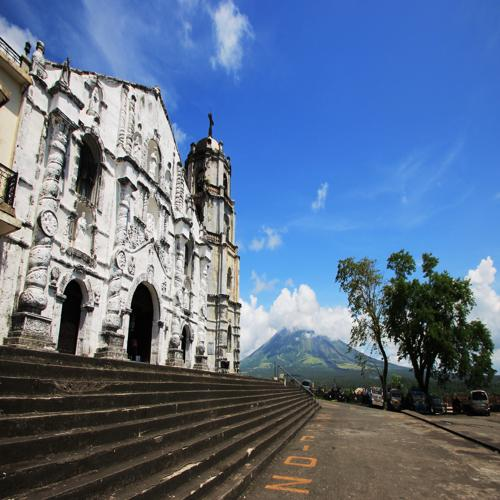Daraga Church: (19, 19, 246, 386)
